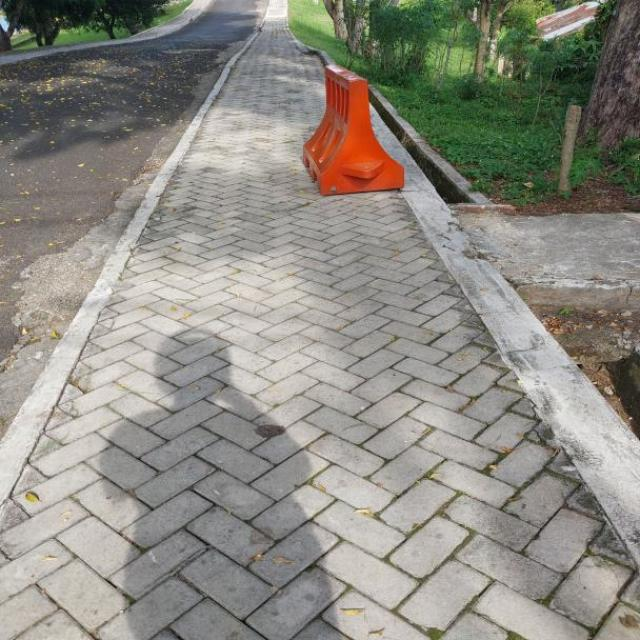barrier ahead at: (306, 57, 412, 204)
